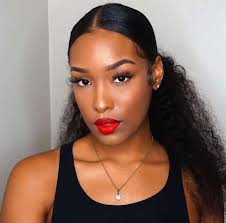person: (66, 3, 162, 147)
